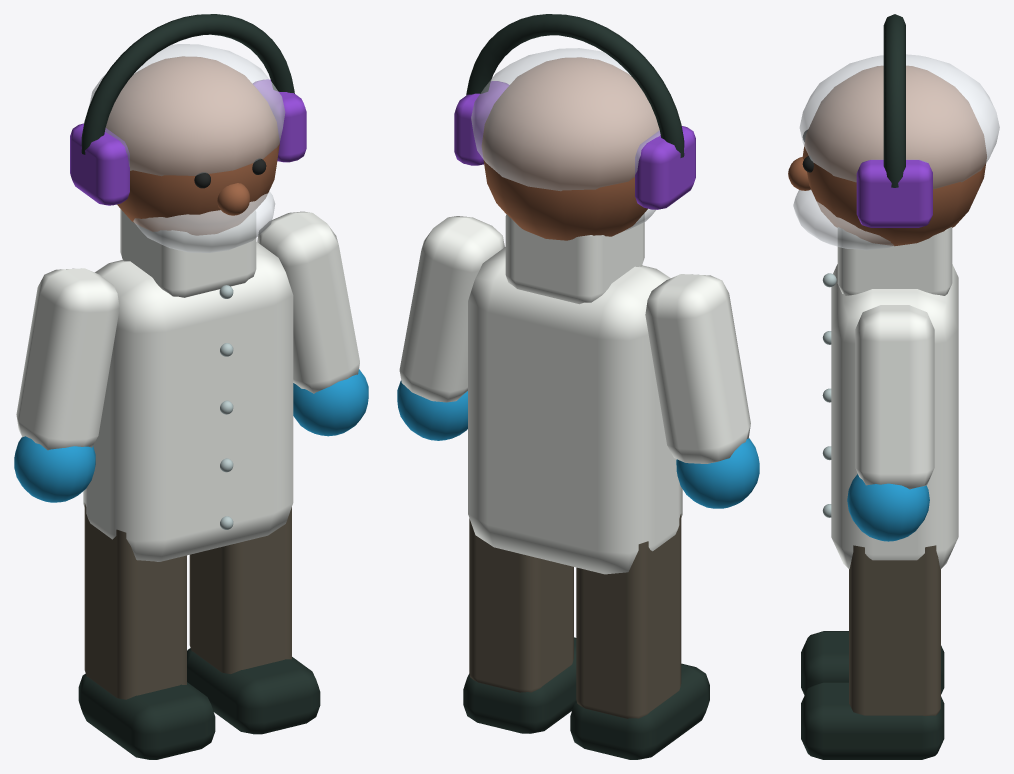
The model's file is crew-1.glb.
The picture shows the model from 3 angles, left to right: view 1: azimuth 30°, elevation 25°; view 2: azimuth 150°, elevation 25°; view 3: azimuth 270°, elevation 25°; orthographic projection. The views are drawn at different scales.
Parts seen in each view (by area): view 1: CrewMember, ArmLeft, ArmRight; view 2: CrewMember, ArmLeft, ArmRight; view 3: CrewMember, ArmRight.
Boxes of the visible parts, x1,y1,x2,y2 form: CrewMember: [70, 14, 320, 759]; ArmLeft: [14, 268, 119, 502]; ArmRight: [257, 211, 368, 436]; CrewMember: [454, 14, 709, 759]; ArmLeft: [645, 274, 759, 508]; ArmRight: [397, 216, 504, 440]; CrewMember: [788, 14, 999, 759]; ArmRight: [847, 305, 934, 541].
Bounding box in the file's own units: 1.25 × 2.42 × 0.666.
